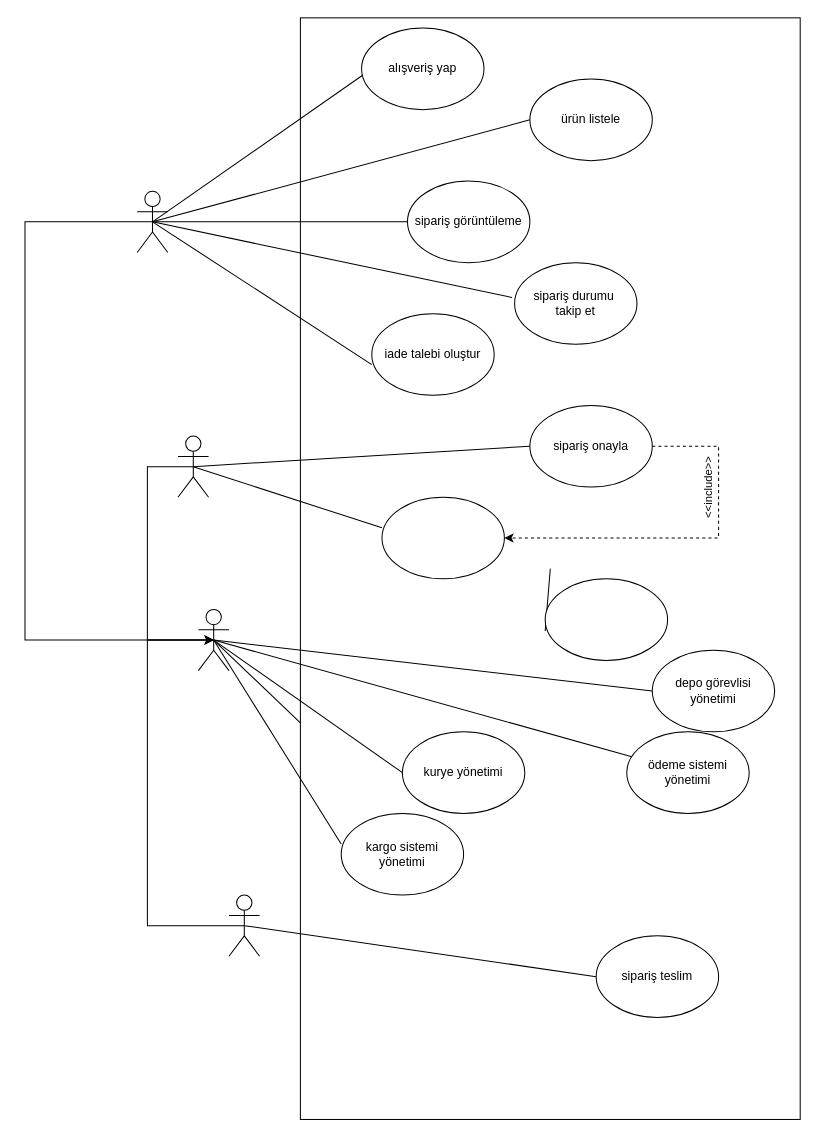
The diagram is 818 pixels wide and 1137 high, and some of its shapes have lost their labels. The centre of each missing label's shape, as x and y in pixels:
"Depo görevlisi" belongs at (x=193, y=466).
"kullanıcı yönetimi" belongs at (x=606, y=619).
"Kurye" belongs at (x=244, y=925).
"Müşteri" belongs at (x=152, y=221).
"stok kontrol" belongs at (x=442, y=537).
"Yönetici" belongs at (x=213, y=639).
